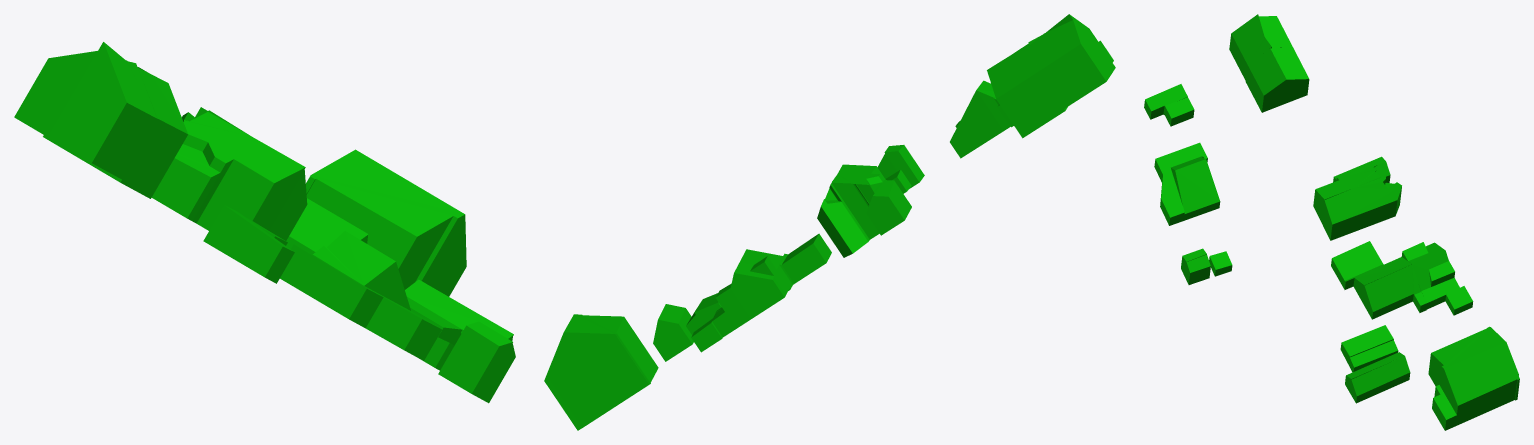
3 views of the same model, side by side, from view 1: azimuth 30°, elevation 25°; view 2: azimuth 150°, elevation 25°; view 3: azimuth 270°, elevation 25° (orthographic). The views are drawn at different scales.
Parts seen in each view (by area): view 1: mesh; view 2: mesh; view 3: mesh.
Boxes of the visible parts, x1,y1,x2,y2 form: mesh: [14, 42, 515, 403]; mesh: [544, 14, 1115, 430]; mesh: [1144, 14, 1519, 430].
Size of the model in its own units: 60.69 by 52.76 by 62.17.
